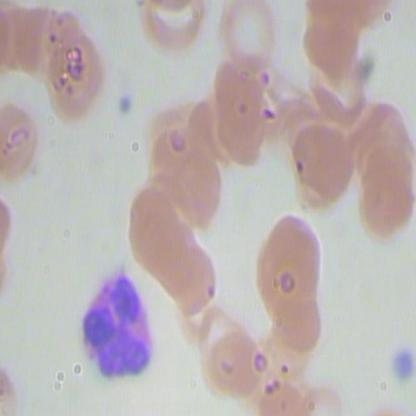Platelets: (389, 346, 415, 381), (112, 88, 136, 120)
RBC: (42, 32, 109, 129), (287, 126, 355, 219), (260, 214, 328, 299), (260, 265, 328, 350), (213, 80, 279, 167), (196, 317, 261, 405), (348, 164, 415, 249), (164, 144, 231, 229), (216, 1, 284, 75), (294, 7, 361, 82), (1, 101, 51, 187)
WBC: (60, 270, 167, 389)
